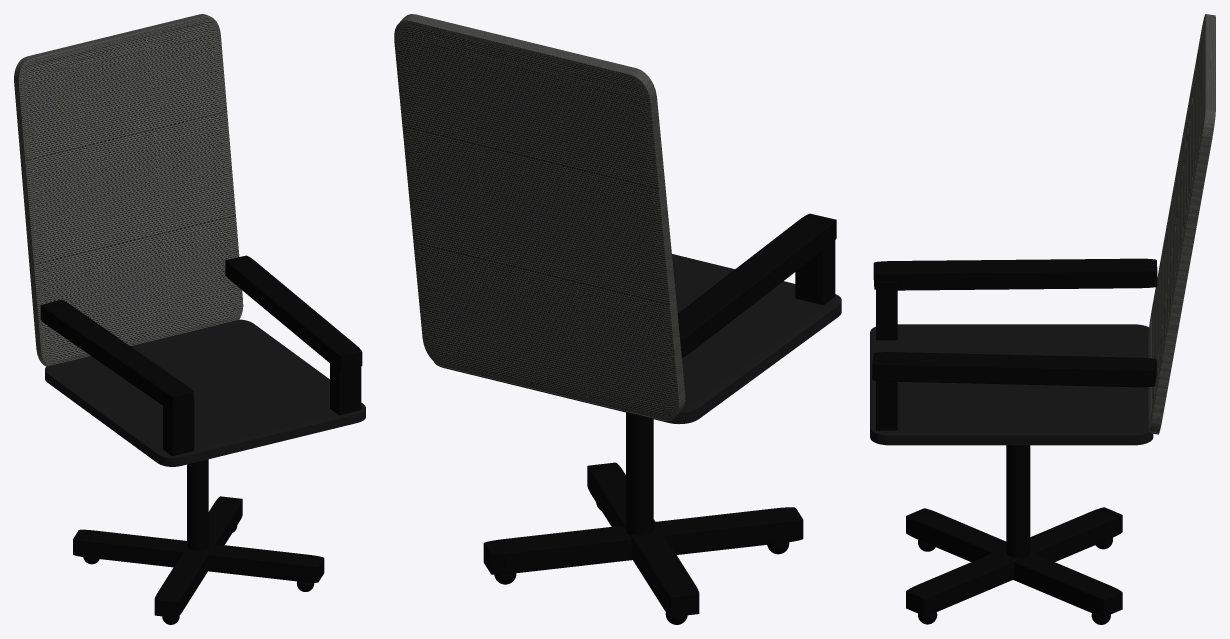
Rendered from state-mlrqdudw-h1ax.glb.
3 renders of one model, left to right at view 1: azimuth 30°, elevation 25°; view 2: azimuth 150°, elevation 25°; view 3: azimuth 270°, elevation 25°, orthographic. The views are drawn at different scales.
Visible parts, largest first — view 1: assetPrim:5028f5326c4f1-19c73300d7f:865634a68ff0c8-19c6fa60e, assetPrim:5028f5326c4f1-19c73300d7f:8135caa097bd2-19c6fa9aca, assetPrim:5028f5326c4f1-19c73300d7f:222d821342865-19c6fb179d, assetPrim:5028f5326c4f1-19c73300d7f:7c74141cfb3f38-19c6fae01, assetPrim:5028f5326c4f1-19c73300d7f:6547e60f44d2c8-19c6fad75, assetPrim:5028f5326c4f1-19c73300d7f:16028c014b9e9-19c6fb11da, assetPrim:5028f5326c4f1-19c73300d7f:76547e0ddb7898-19c6fb1be, assetPrim:5028f5326c4f1-19c73300d7f:4a6bcc5b026328-19c6faebc, assetPrim:5028f5326c4f1-19c73300d7f:1b7fcbb9d8b61-19c6fb05a0; view 2: assetPrim:5028f5326c4f1-19c73300d7f:865634a68ff0c8-19c6fa60e, assetPrim:5028f5326c4f1-19c73300d7f:8135caa097bd2-19c6fa9aca, assetPrim:5028f5326c4f1-19c73300d7f:16028c014b9e9-19c6fb11da, assetPrim:5028f5326c4f1-19c73300d7f:7c74141cfb3f38-19c6fae01, assetPrim:5028f5326c4f1-19c73300d7f:222d821342865-19c6fb179d, assetPrim:5028f5326c4f1-19c73300d7f:76547e0ddb7898-19c6fb1be, assetPrim:5028f5326c4f1-19c73300d7f:1b7fcbb9d8b61-19c6fb05a0; view 3: assetPrim:5028f5326c4f1-19c73300d7f:8135caa097bd2-19c6fa9aca, assetPrim:5028f5326c4f1-19c73300d7f:865634a68ff0c8-19c6fa60e, assetPrim:5028f5326c4f1-19c73300d7f:6547e60f44d2c8-19c6fad75, assetPrim:5028f5326c4f1-19c73300d7f:7c74141cfb3f38-19c6fae01, assetPrim:5028f5326c4f1-19c73300d7f:222d821342865-19c6fb179d, assetPrim:5028f5326c4f1-19c73300d7f:16028c014b9e9-19c6fb11da, assetPrim:5028f5326c4f1-19c73300d7f:76547e0ddb7898-19c6fb1be, assetPrim:5028f5326c4f1-19c73300d7f:1b7fcbb9d8b61-19c6fb05a0, assetPrim:5028f5326c4f1-19c73300d7f:4a6bcc5b026328-19c6faebc.
Boxes of the visible parts, bbox=[...] form: assetPrim:5028f5326c4f1-19c73300d7f:865634a68ff0c8-19c6fa60e: bbox=[14, 14, 243, 366]; assetPrim:5028f5326c4f1-19c73300d7f:8135caa097bd2-19c6fa9aca: bbox=[45, 319, 365, 466]; assetPrim:5028f5326c4f1-19c73300d7f:222d821342865-19c6fb179d: bbox=[73, 529, 324, 582]; assetPrim:5028f5326c4f1-19c73300d7f:7c74141cfb3f38-19c6fae01: bbox=[40, 300, 193, 411]; assetPrim:5028f5326c4f1-19c73300d7f:6547e60f44d2c8-19c6fad75: bbox=[225, 255, 362, 370]; assetPrim:5028f5326c4f1-19c73300d7f:16028c014b9e9-19c6fb11da: bbox=[154, 496, 242, 617]; assetPrim:5028f5326c4f1-19c73300d7f:76547e0ddb7898-19c6fb1be: bbox=[187, 459, 208, 550]; assetPrim:5028f5326c4f1-19c73300d7f:4a6bcc5b026328-19c6faebc: bbox=[330, 356, 361, 415]; assetPrim:5028f5326c4f1-19c73300d7f:1b7fcbb9d8b61-19c6fb05a0: bbox=[163, 398, 194, 455]; assetPrim:5028f5326c4f1-19c73300d7f:865634a68ff0c8-19c6fa60e: bbox=[394, 14, 685, 420]; assetPrim:5028f5326c4f1-19c73300d7f:8135caa097bd2-19c6fa9aca: bbox=[434, 254, 841, 424]; assetPrim:5028f5326c4f1-19c73300d7f:16028c014b9e9-19c6fb11da: bbox=[483, 507, 803, 574]; assetPrim:5028f5326c4f1-19c73300d7f:7c74141cfb3f38-19c6fae01: bbox=[677, 213, 836, 357]; assetPrim:5028f5326c4f1-19c73300d7f:222d821342865-19c6fb179d: bbox=[587, 462, 699, 616]; assetPrim:5028f5326c4f1-19c73300d7f:76547e0ddb7898-19c6fb1be: bbox=[626, 412, 653, 535]; assetPrim:5028f5326c4f1-19c73300d7f:1b7fcbb9d8b61-19c6fb05a0: bbox=[795, 240, 835, 304]; assetPrim:5028f5326c4f1-19c73300d7f:8135caa097bd2-19c6fa9aca: bbox=[870, 324, 1153, 445]; assetPrim:5028f5326c4f1-19c73300d7f:865634a68ff0c8-19c6fa60e: bbox=[1148, 14, 1215, 434]; assetPrim:5028f5326c4f1-19c73300d7f:6547e60f44d2c8-19c6fad75: bbox=[872, 352, 1156, 387]; assetPrim:5028f5326c4f1-19c73300d7f:7c74141cfb3f38-19c6fae01: bbox=[873, 258, 1157, 290]; assetPrim:5028f5326c4f1-19c73300d7f:222d821342865-19c6fb179d: bbox=[906, 507, 1122, 615]; assetPrim:5028f5326c4f1-19c73300d7f:16028c014b9e9-19c6fb11da: bbox=[906, 508, 1122, 616]; assetPrim:5028f5326c4f1-19c73300d7f:76547e0ddb7898-19c6fb1be: bbox=[1006, 445, 1030, 558]; assetPrim:5028f5326c4f1-19c73300d7f:1b7fcbb9d8b61-19c6fb05a0: bbox=[876, 280, 897, 340]; assetPrim:5028f5326c4f1-19c73300d7f:4a6bcc5b026328-19c6faebc: bbox=[876, 374, 897, 430].
Bounding box in the file's own units: 0.7424 × 1.61 × 0.9582.
13 materials, 1 textured.
